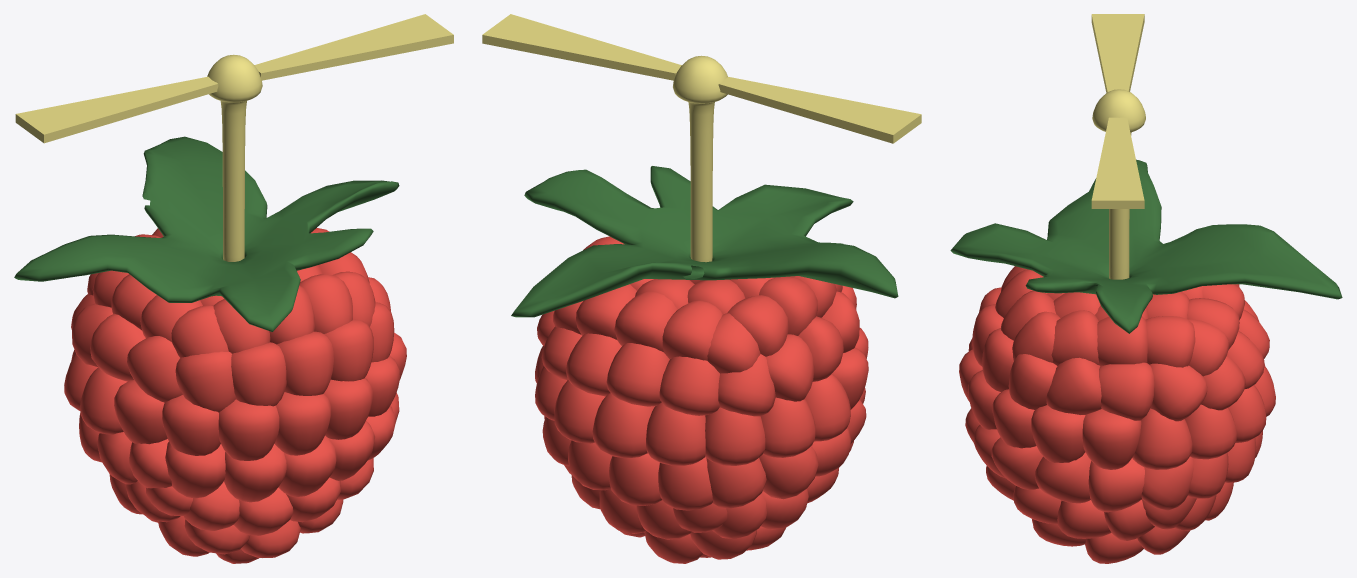
File: Raspberry fruit.fbx
3 renders of one model, left to right at view 1: azimuth 30°, elevation 25°; view 2: azimuth 150°, elevation 25°; view 3: azimuth 270°, elevation 25°, orthographic. The views are drawn at different scales.
Parts seen in each view (by area): view 1: 立方體.127, 平面.002, 立方體.004, 圓柱體.004; view 2: 立方體.127, 平面.002, 立方體.004, 圓柱體.004; view 3: 立方體.127, 平面.002, 立方體.004, 圓柱體.004.
Boxes of the visible parts, box(x1,y1,x2,y2) form: 立方體.127: box(64, 228, 406, 563); 平面.002: box(14, 136, 399, 331); 立方體.004: box(15, 14, 453, 143); 圓柱體.004: box(207, 54, 262, 261); 立方體.127: box(535, 236, 868, 563); 平面.002: box(511, 166, 898, 317); 立方體.004: box(482, 14, 921, 143); 圓柱體.004: box(673, 55, 727, 262); 立方體.127: box(959, 266, 1275, 563); 平面.002: box(950, 159, 1342, 333); 立方體.004: box(1091, 14, 1144, 208); 圓柱體.004: box(1092, 89, 1145, 279).
Bounding box in the file's own units: 78.78 × 90.98 × 69.36.
